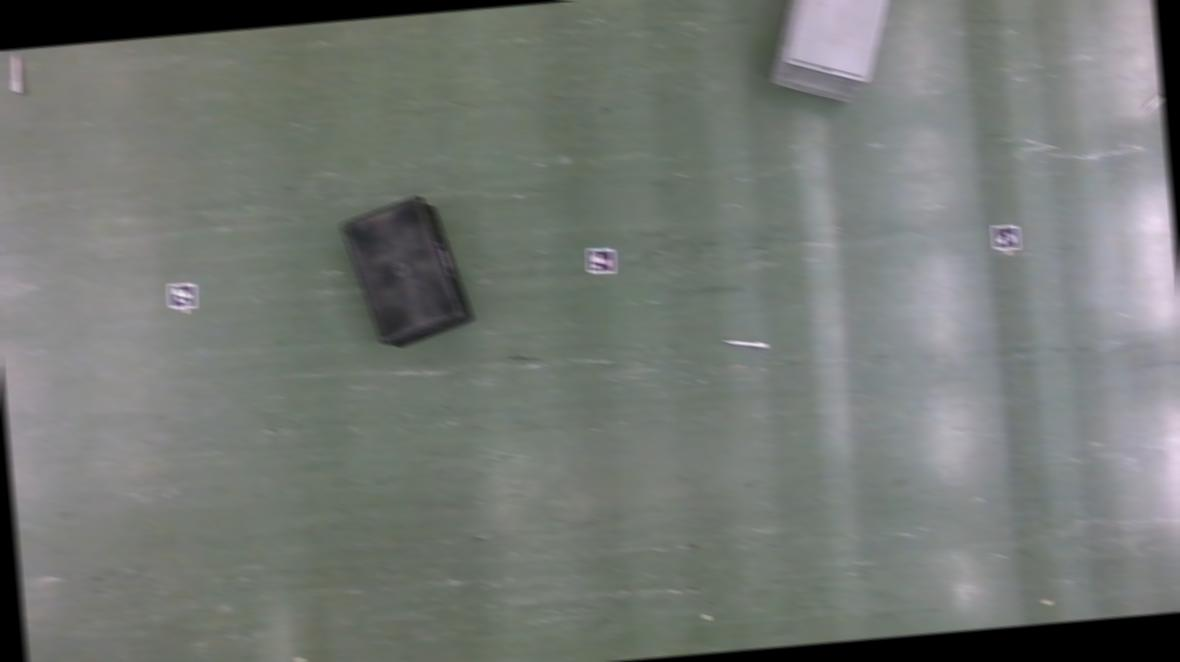probes: (1141, 84, 1164, 113), (726, 337, 766, 351), (10, 55, 22, 94)
rako: (338, 194, 478, 354), (760, 0, 907, 112)
